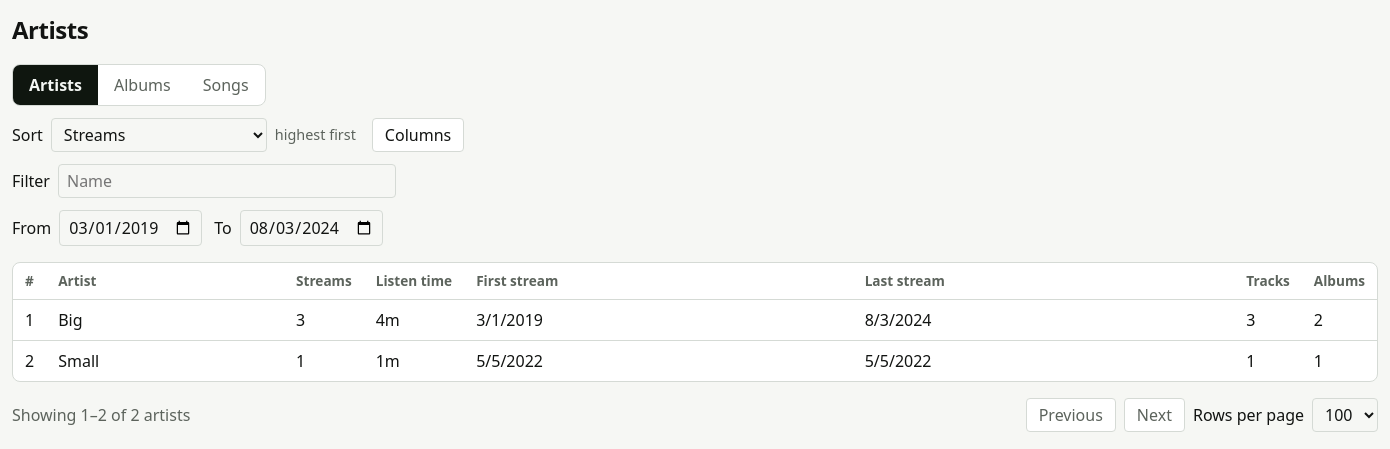
Test: DataPage › resets a narrowed date range
Expected: the cell "Big" is shown, [46,300,284,341]
Type "2024-08-03" into the date field labelled "From".
click(131, 228); type("2024-08-03")  # box [59,210,202,246]
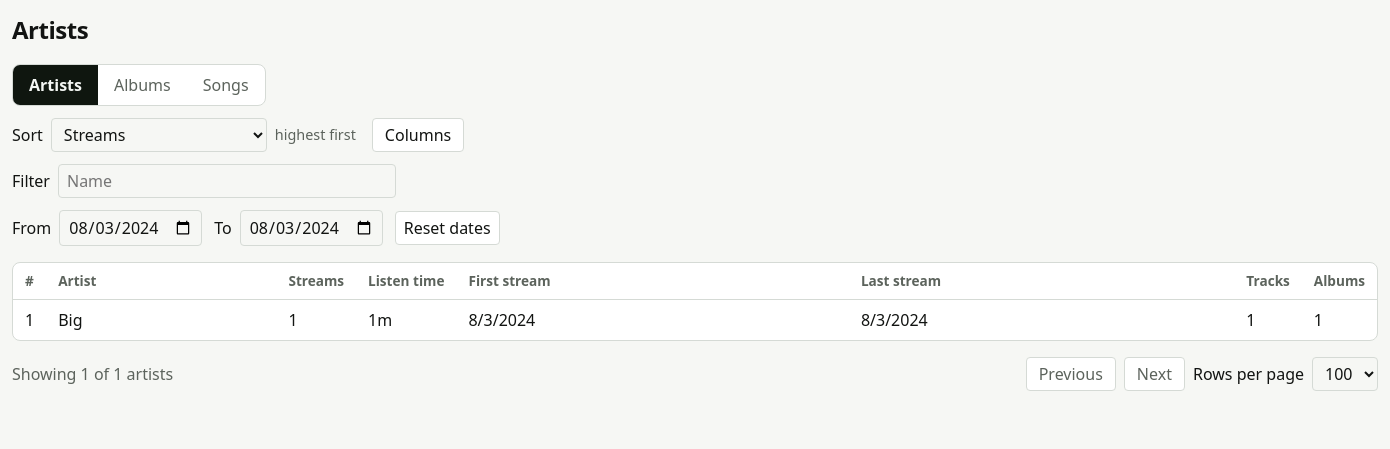
Now the button "Reset dates" is shown
Click the button "Reset dates".
click(447, 228)  # box [395,211,500,245]
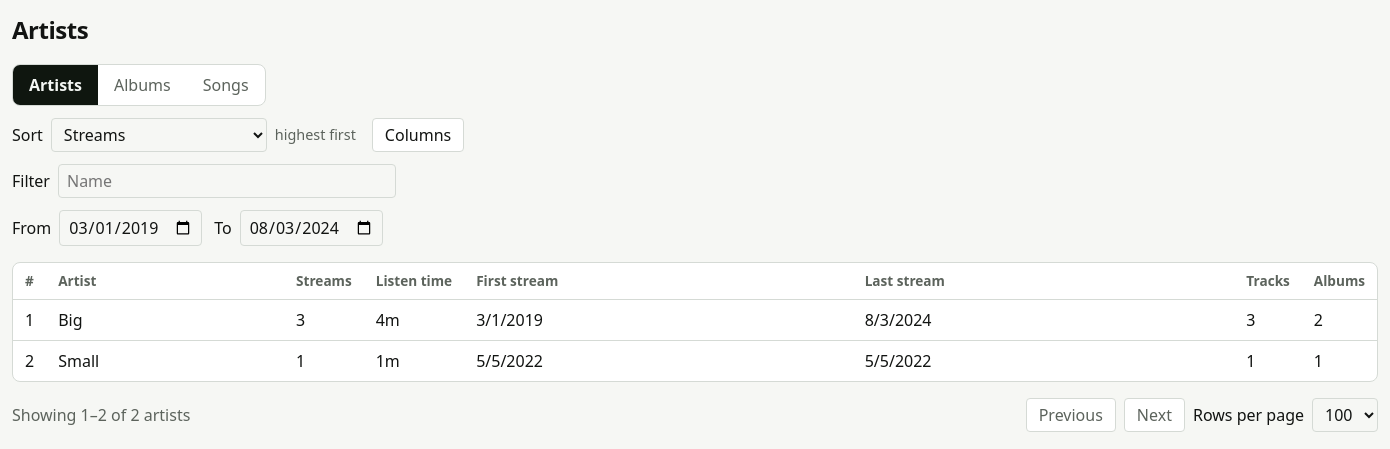
Now the cell "Small" is shown, box [46,341,284,381]
Now the button "Reset dates" is gone
